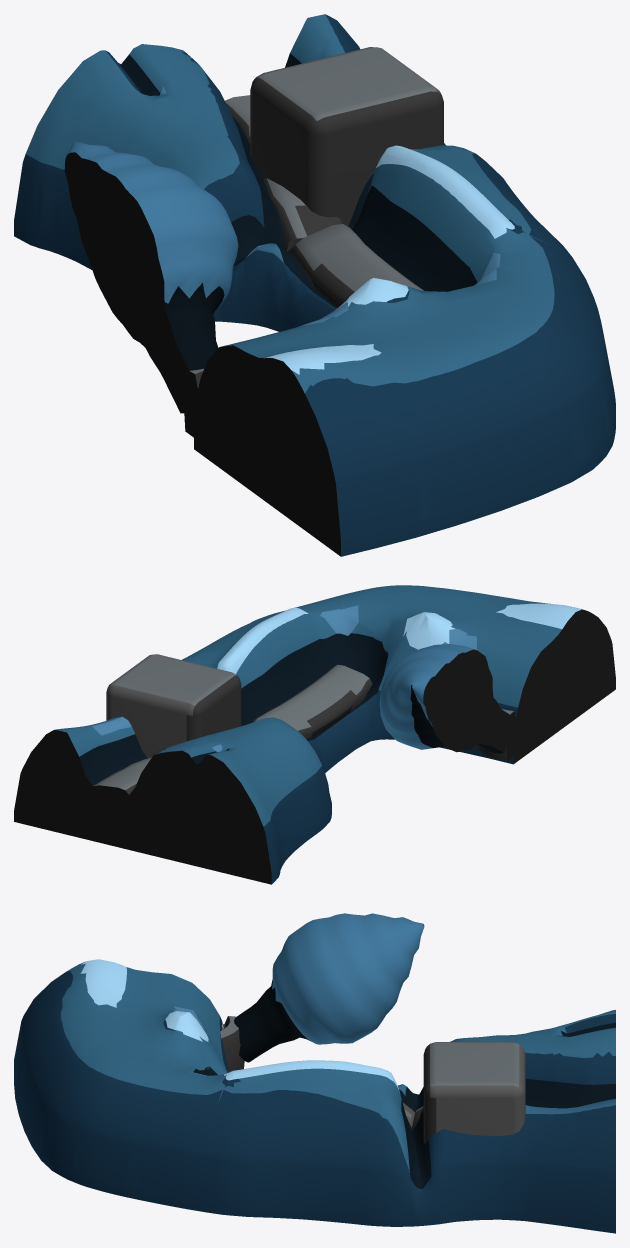
File: blue_gate_br.glb
3 views of the same model, one above another, from view 1: azimuth 30°, elevation 25°; view 2: azimuth 150°, elevation 25°; view 3: azimuth 270°, elevation 25° (orthographic). The views are drawn at different scales.
Parts seen in each view (by area): view 1: blue_gate_br; view 2: blue_gate_br; view 3: blue_gate_br.
Part boxes in pixels (x1=…): blue_gate_br: x1=14, y1=14, x2=615, y2=556; blue_gate_br: x1=14, y1=585, x2=615, y2=884; blue_gate_br: x1=14, y1=913, x2=615, y2=1233.
Bounding box in the file's own units: 16.55 × 7.62 × 25.98.
